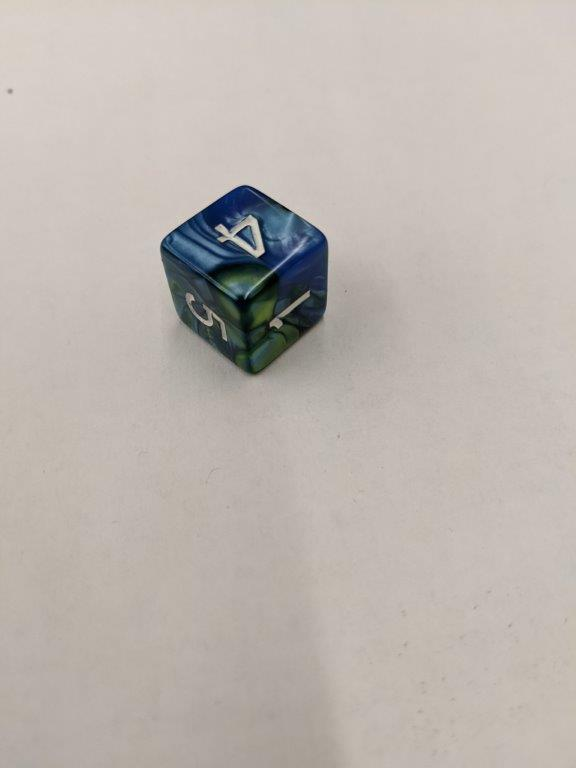d6-4: (157, 184, 329, 375)
